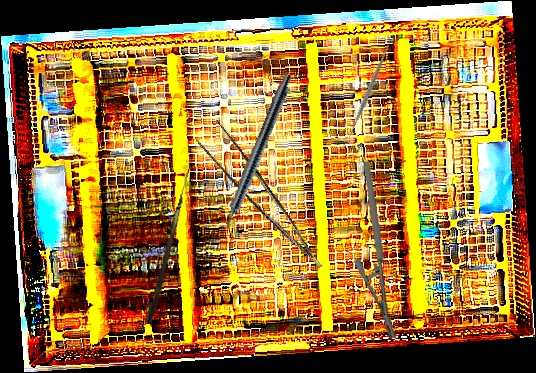Handpiece: (214, 71, 296, 239)
Hook Surgical: (144, 158, 193, 326)
Needle Holder: (331, 161, 429, 339)
Spatula Surgical: (341, 34, 398, 144)
Tissue Forceps: (192, 114, 323, 286)
